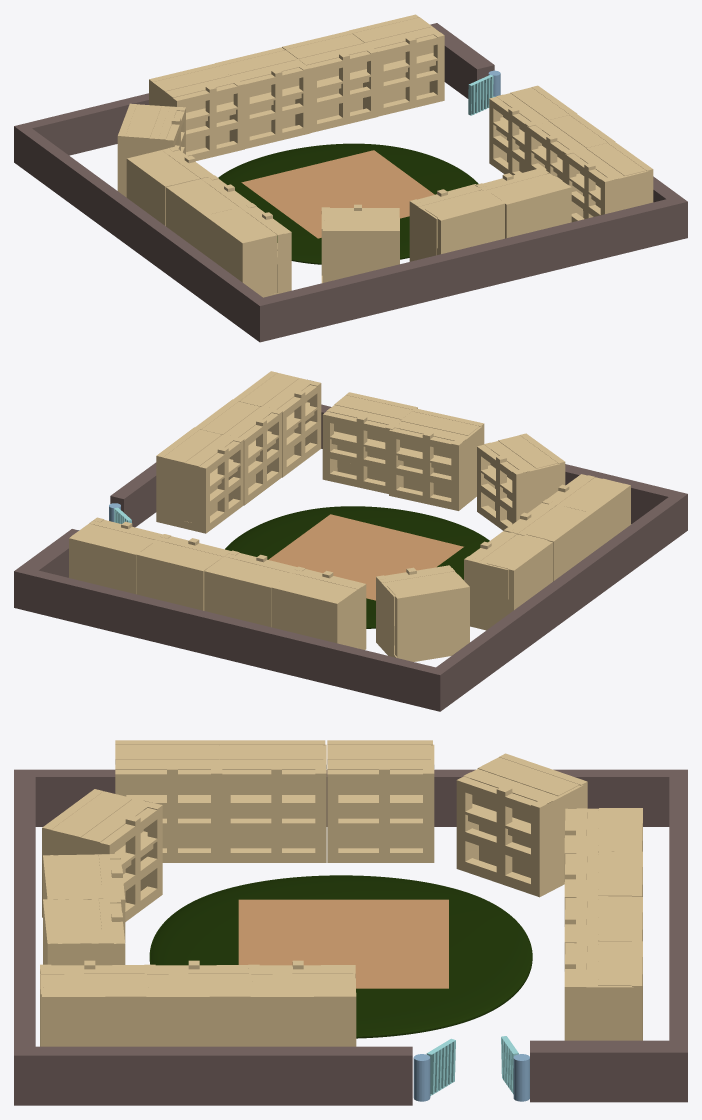
The model's file is hostel.glb.
3 views of the same model, one above another, from view 1: azimuth 30°, elevation 25°; view 2: azimuth 150°, elevation 25°; view 3: azimuth 270°, elevation 25° (orthographic). The views are drawn at different scales.
Parts seen in each view (by area): view 1: Cube.020, Plane.002, Cube, Cube.003, Cube.017, Cube.002, Cube.004, Cube.010, Cube.012, Cube.014, Cube.011, Cube.016 (+6 smaller); view 2: Cube.020, Cube.007, Cube.012, Cube.016, Plane.002, Cube.013, Cube, Cube.008, Cube.011, Cube.004, Cube.003, Cube.017 (+5 smaller); view 3: Cube.020, Cube, Plane.002, Cube.007, Cube.008, Cube.009, Cube.010, Cube.014, Cube.016, Cube.015, Cube.011, Cube.017 (+9 smaller).
Part boxes in pixels (x1,y1,x2,y2): Cube.020: (14,23,687,342); Plane.002: (241,150,434,238); Cube: (218,143,478,264); Cube.003: (282,31,377,132); Cube.017: (349,14,444,116); Cube.002: (215,47,310,148); Cube.004: (149,63,244,160); Cube.010: (204,203,291,297); Cube.012: (409,184,505,261); Cube.014: (565,141,653,222); Cube.011: (321,204,399,283); Cube.016: (489,85,576,175); Cube.020: (14,404,687,711); Cube.007: (376,565,469,661); Cube.012: (389,408,484,510); Cube.016: (156,427,244,533); Plane.002: (268,514,463,600); Cube.013: (322,392,417,493); Cube: (225,506,489,628); Cube.008: (464,531,552,630); Cube.011: (477,433,565,530); Cube.004: (271,566,366,649); Cube.003: (136,534,230,610); Cube.017: (69,517,162,594); Cube.020: (14,769,687,1105); Cube: (149,875,532,1038); Plane.002: (238,899,448,988); Cube.007: (456,753,587,897); Cube.008: (327,740,434,862); Cube.009: (219,740,326,862); Cube.010: (115,740,222,862); Cube.014: (40,960,147,1046); Cube.016: (248,960,356,1046); Cube.015: (144,960,251,1046); Cube.011: (42,789,162,921); Cube.017: (564,941,642,1040).
Size of the model in its own units: 329 by 51.38 by 327.
